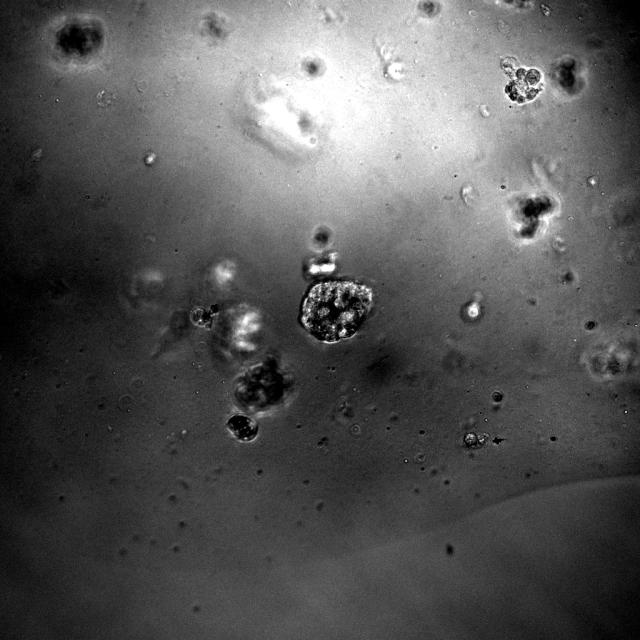organoid: (232, 346, 300, 415), (299, 279, 372, 342), (54, 15, 105, 61), (500, 56, 541, 104), (512, 194, 554, 239), (303, 251, 337, 279), (189, 298, 219, 329), (226, 413, 258, 442), (309, 225, 332, 252), (463, 431, 491, 450), (491, 390, 503, 403), (584, 320, 597, 331)
